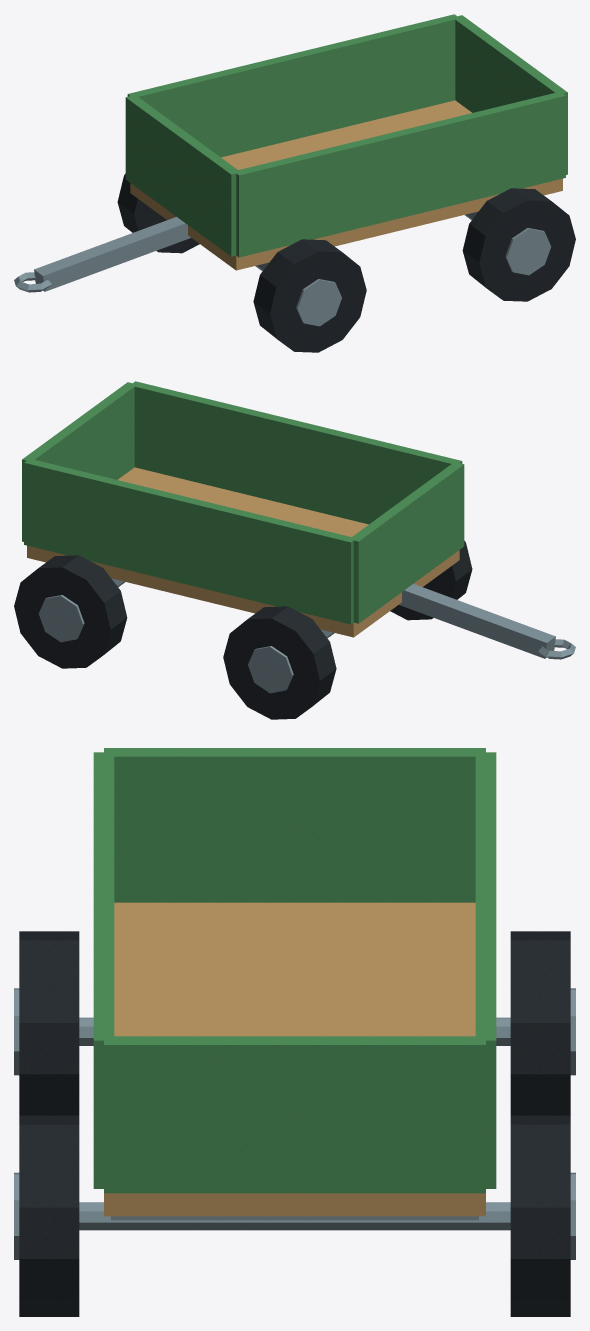
File: low-poly-farm-trailer.glb
3 views of the same model, one above another, from view 1: azimuth 30°, elevation 25°; view 2: azimuth 150°, elevation 25°; view 3: azimuth 270°, elevation 25° (orthographic). The views are drawn at different scales.
Parts seen in each view (by area): view 1: Trailer side 014, Trailer side 015, Trailer end 016, Trailer tyre 001, Trailer tyre 007, Trailer bed 013, Trailer end 017, Trailer drawbar 018, Trailer tyre 003, Trailer hub 002, Trailer hub 008, Tow eye 019; view 2: Trailer side 015, Trailer side 014, Trailer end 016, Trailer tyre 003, Trailer tyre 009, Trailer bed 013, Trailer end 017, Trailer drawbar 018, Trailer tyre 001, Trailer hub 004, Trailer hub 010, Tow eye 019; view 3: Trailer end 017, Trailer bed 013, Trailer end 016, Trailer tyre 007, Trailer tyre 009, Trailer tyre 001, Trailer tyre 003, Trailer side 015, Trailer side 014, Trailer axle 011, Trailer axle bolster 012, Trailer axle 005.
Boxes of the visible parts, <box> form: Trailer side 014: <box>235,93,565,257</box>; Trailer side 015: <box>127,14,459,157</box>; Trailer end 016: <box>125,95,240,256</box>; Trailer tyre 001: <box>253,239,366,352</box>; Trailer tyre 007: <box>462,188,575,301</box>; Trailer bed 013: <box>130,100,562,270</box>; Trailer end 017: <box>453,15,567,174</box>; Trailer drawbar 018: <box>34,217,190,291</box>; Trailer tyre 003: <box>117,173,199,253</box>; Trailer hub 002: <box>296,279,341,326</box>; Trailer hub 008: <box>505,228,551,275</box>; Tow eye 019: <box>14,272,51,292</box>; Trailer side 015: <box>24,460,354,624</box>; Trailer side 014: <box>130,381,462,524</box>; Trailer end 016: <box>349,462,464,623</box>; Trailer tyre 003: <box>223,606,336,719</box>; Trailer tyre 009: <box>14,555,127,668</box>; Trailer bed 013: <box>27,467,459,637</box>; Trailer end 017: <box>22,382,136,541</box>; Trailer drawbar 018: <box>399,584,555,658</box>; Trailer tyre 001: <box>390,540,472,620</box>; Trailer hub 004: <box>248,646,293,693</box>; Trailer hub 010: <box>38,595,84,642</box>; Tow eye 019: <box>538,639,575,659</box>; Trailer end 017: <box>104,1036,485,1193</box>; Trailer bed 013: <box>104,902,485,1216</box>; Trailer end 016: <box>104,748,485,902</box>; Trailer tyre 007: <box>19,1115,79,1316</box>; Trailer tyre 009: <box>510,1115,570,1316</box>; Trailer tyre 001: <box>19,931,79,1115</box>; Trailer tyre 003: <box>510,931,570,1115</box>; Trailer side 015: <box>475,752,496,1188</box>; Trailer side 014: <box>93,752,114,1188</box>; Trailer axle 011: <box>79,1202,510,1230</box>; Trailer axle bolster 012: <box>111,1216,478,1220</box>; Trailer axle 005: <box>79,1017,510,1045</box>.
Bounding box in the file's own units: 3.82 × 1.29 × 2.06.
Materials: 4 (4 with a texture image).
